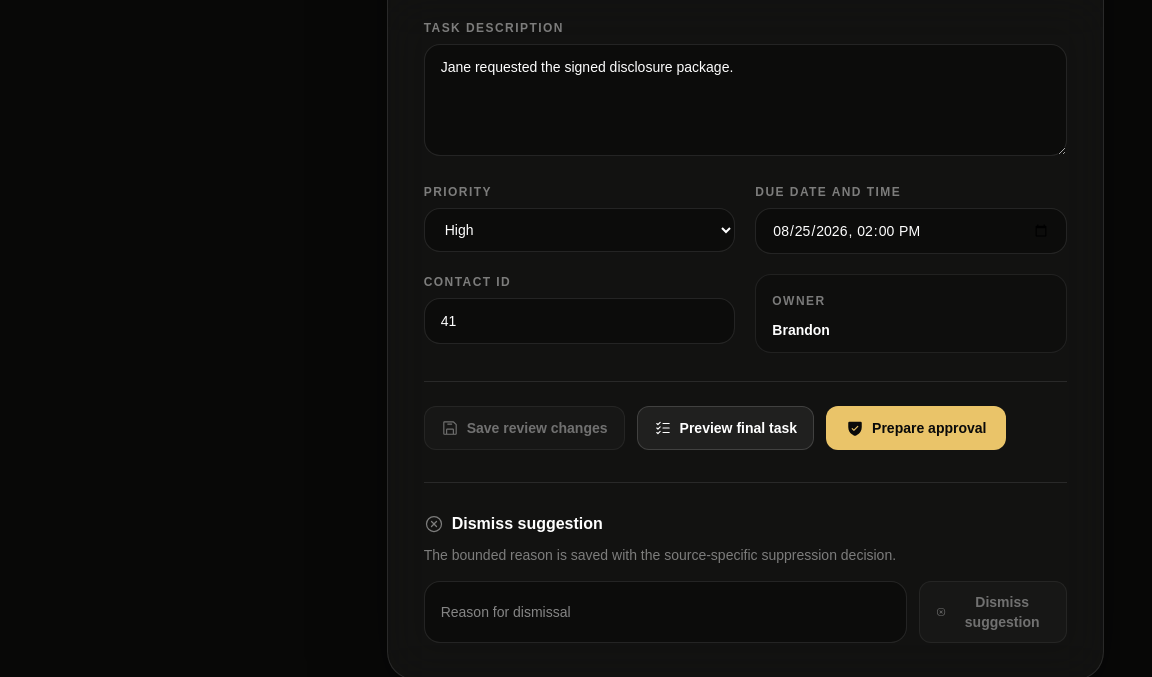
Test: TaskSuggestionsWorkspace › locks the applied row and clears stale audit provenance when the post-approval read fails
(page scrolled)
What coordinates should you click on to do the following:
click the button "Prepare approval"
I would click on:
 (916, 428)
Its box is left=826, top=406, right=1006, bottom=450.
(page scrolled)
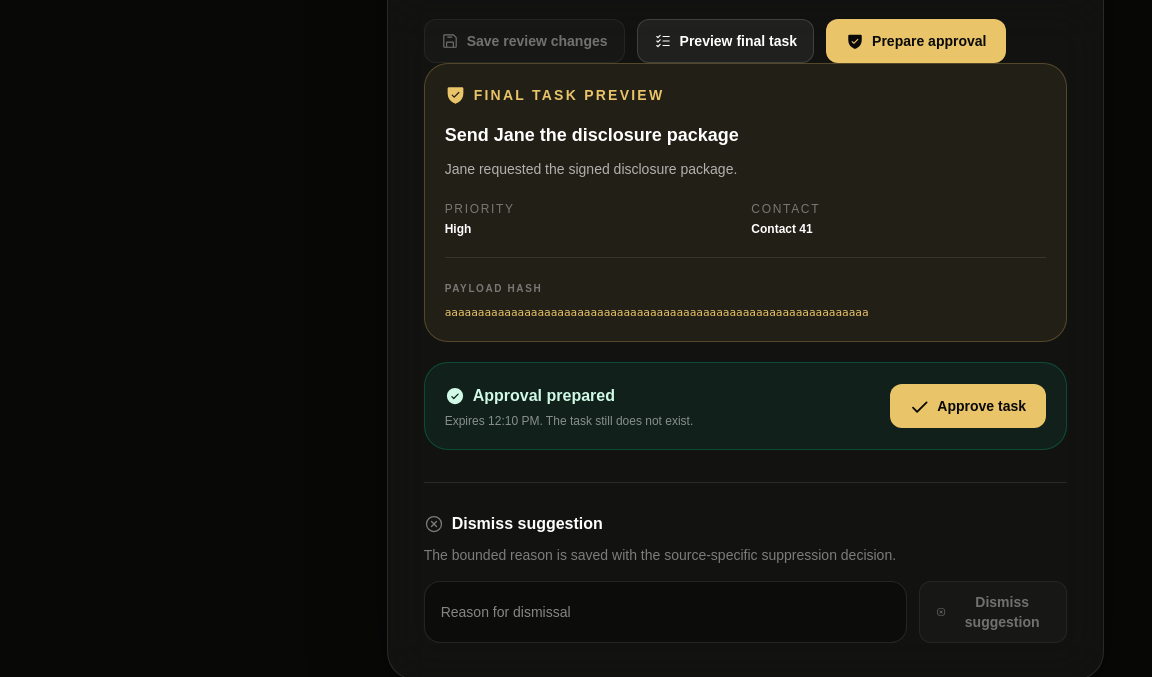
What coordinates should you click on to do the following:
click the button "Approve task"
I would click on:
 (968, 406)
Its box is left=890, top=384, right=1046, bottom=428.
(page scrolled)
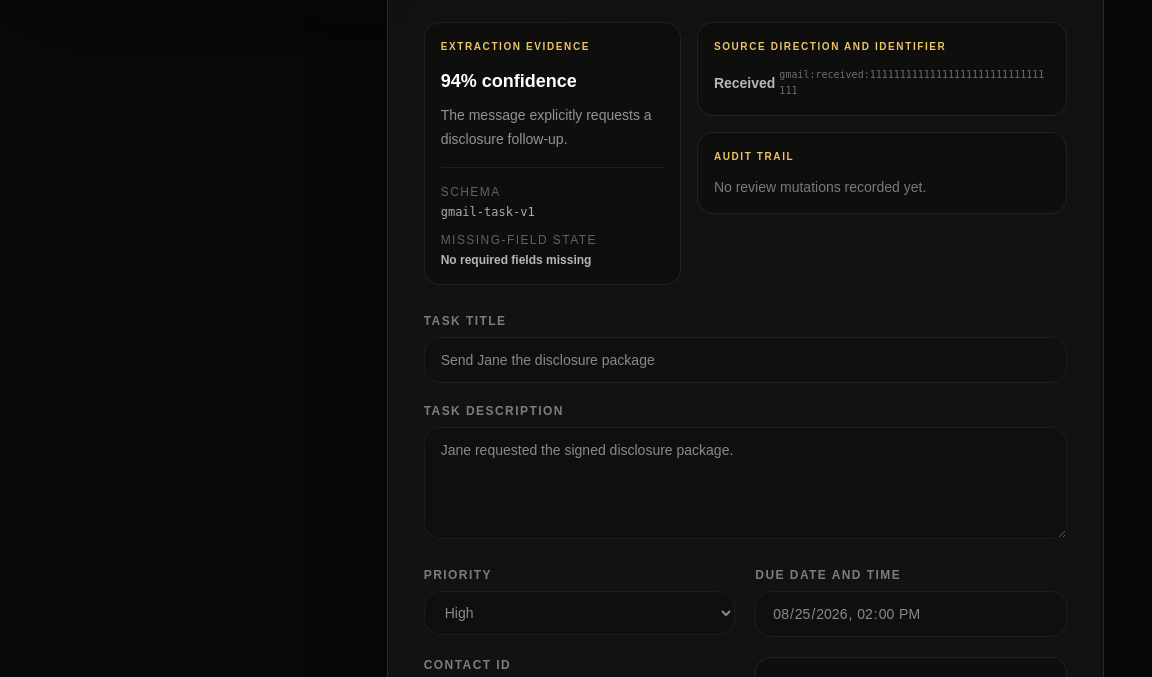
Expected: the text "No review mutations recorded yet." is shown, left=714, top=179, right=926, bottom=195
Expected: the field labelled "Task title" is disabled, left=424, top=337, right=1067, bottom=383
